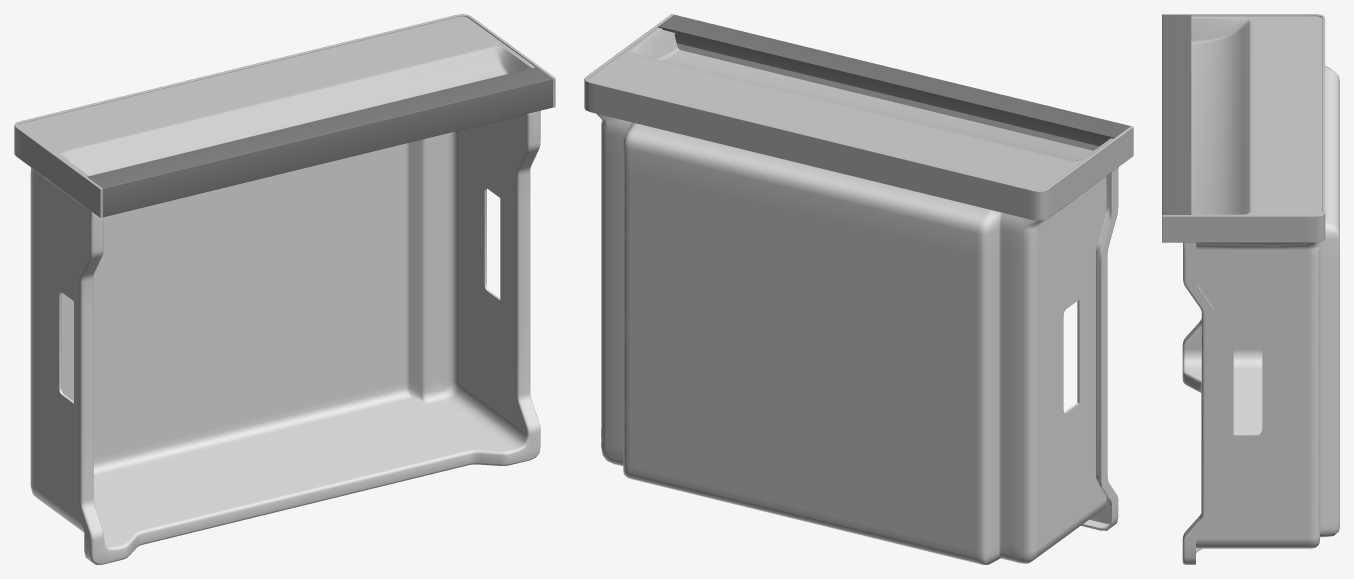
Rendered from SM_Fridge_Drawer_04.obj.
The picture shows the model from 3 angles, left to right: view 1: azimuth 30°, elevation 25°; view 2: azimuth 150°, elevation 25°; view 3: azimuth 270°, elevation 25°; orthographic projection. The views are drawn at different scales.
Parts seen in each view (by area): view 1: SM_Fridge_Drawer_04; view 2: SM_Fridge_Drawer_04; view 3: SM_Fridge_Drawer_04.
Boxes of the visible parts, <box> form: SM_Fridge_Drawer_04: <box>14,14,555,564</box>; SM_Fridge_Drawer_04: <box>584,14,1133,564</box>; SM_Fridge_Drawer_04: <box>1162,14,1339,564</box>.
Size of the model in its own units: 0.409 by 0.333 by 0.152.
